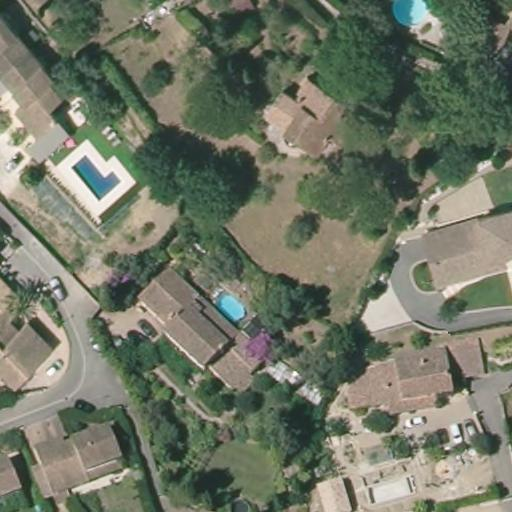pool: (70, 155, 121, 202), (212, 289, 246, 325), (386, 0, 428, 29)
